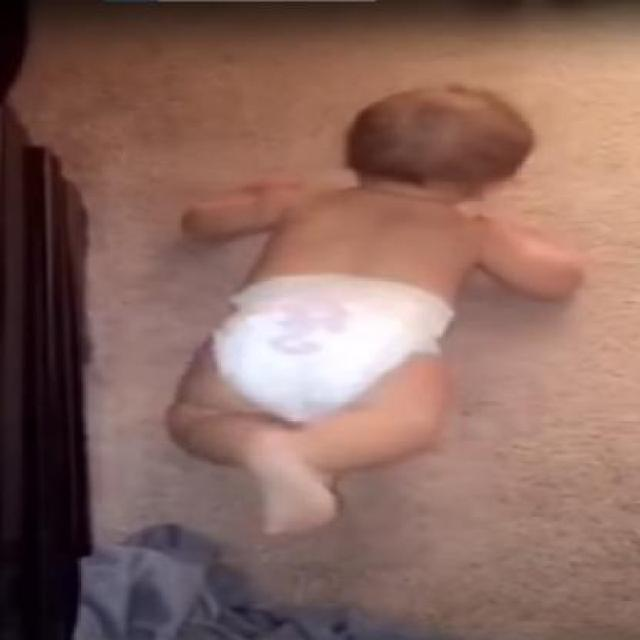non-dog: (166, 87, 591, 534)
